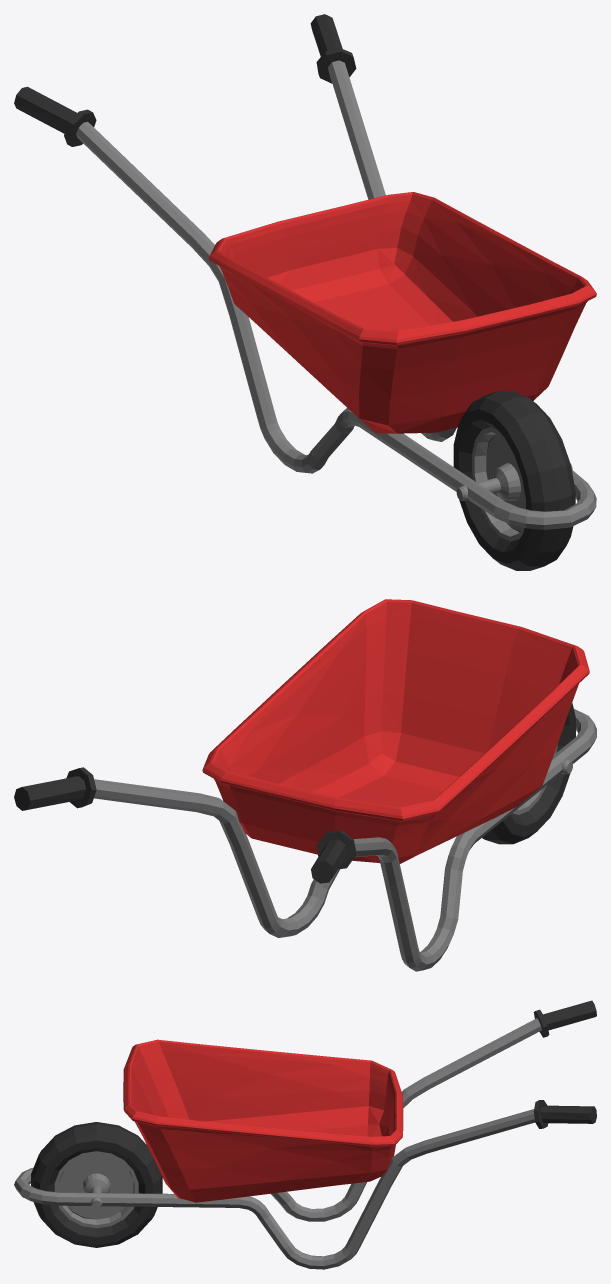
File: 1364 Wheelbarrow.obj
3 renders of one model, top to bottom at view 1: azimuth 30°, elevation 25°; view 2: azimuth 150°, elevation 25°; view 3: azimuth 270°, elevation 25°, orthographic. The views are drawn at different scales.
Parts seen in each view (by area): view 1: Wheelbarrow; view 2: Wheelbarrow; view 3: Wheelbarrow.
Part boxes in pixels (x1,y1,x2,y2): Wheelbarrow: [14, 14, 596, 570]; Wheelbarrow: [14, 599, 596, 971]; Wheelbarrow: [14, 1000, 596, 1269].
Size of the model in its own units: 30.92 by 24.33 by 67.14.
Materials: 1 (1 with a texture image).
